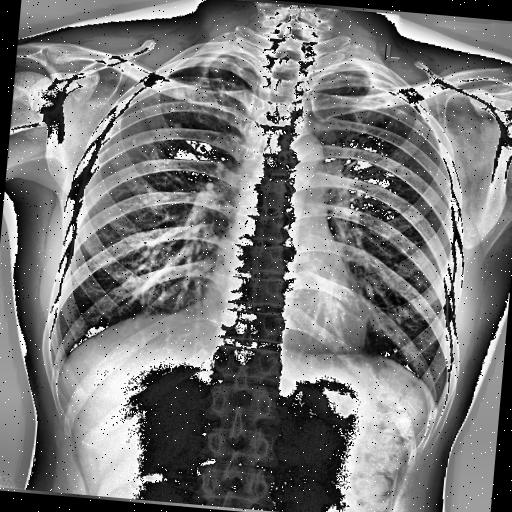10- Pleural effusion: (44, 338, 76, 380), (432, 377, 450, 420)
11- Pleural thickening: (360, 70, 415, 116), (44, 338, 76, 380), (181, 64, 240, 84), (432, 377, 450, 420)
13- Pulmonary fibrosis: (164, 52, 240, 128), (166, 58, 247, 122), (360, 70, 415, 116), (358, 77, 410, 125)
6- Infiltration: (164, 52, 240, 128)
